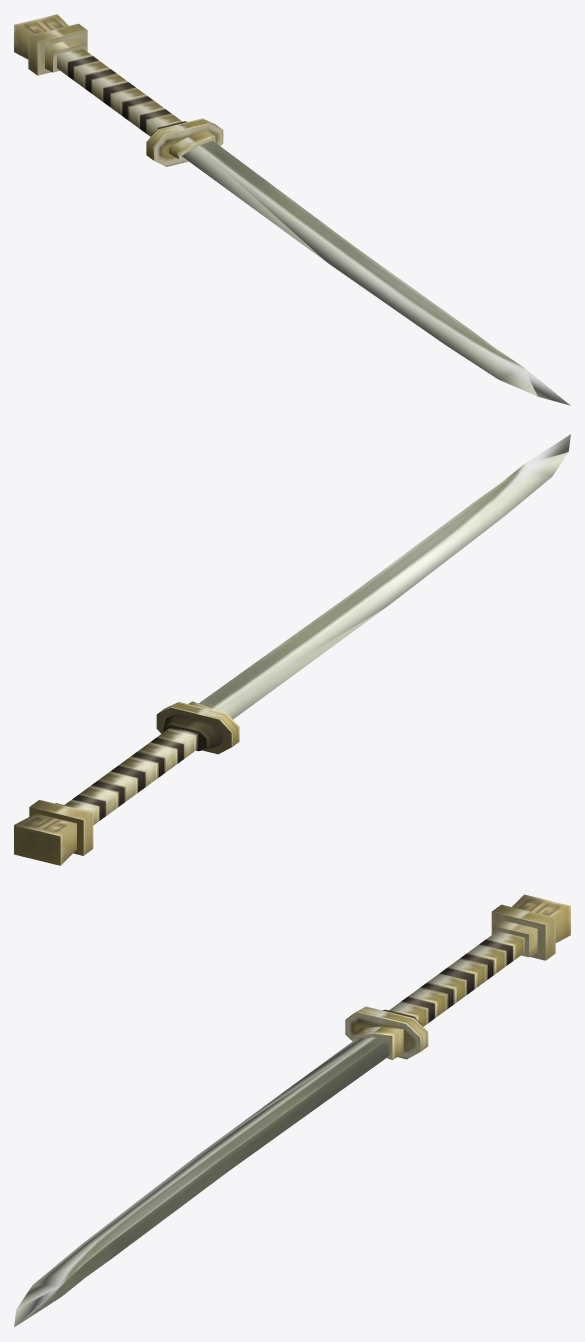
The picture shows the model from 3 angles, top to bottom: view 1: azimuth 30°, elevation 25°; view 2: azimuth 150°, elevation 25°; view 3: azimuth 330°, elevation 25°; orthographic projection. The views are drawn at different scales.
Parts seen in each view (by area): view 1: w9_0r; view 2: w9_0r; view 3: w9_0r.
Part boxes in pixels (x1,y1,x2,y2): w9_0r: (14, 14, 570, 405); w9_0r: (14, 434, 570, 865); w9_0r: (14, 894, 570, 1327).
Bounding box in the file's own units: 2.26 × 1.03 × 29.02.
1 material, 1 textured.
